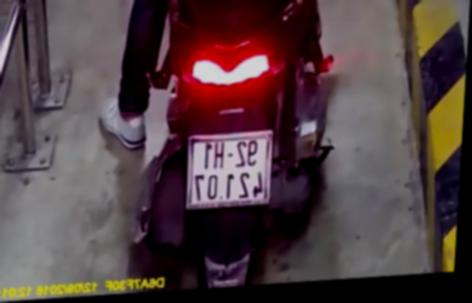License_Plate: (175, 123, 287, 216)
